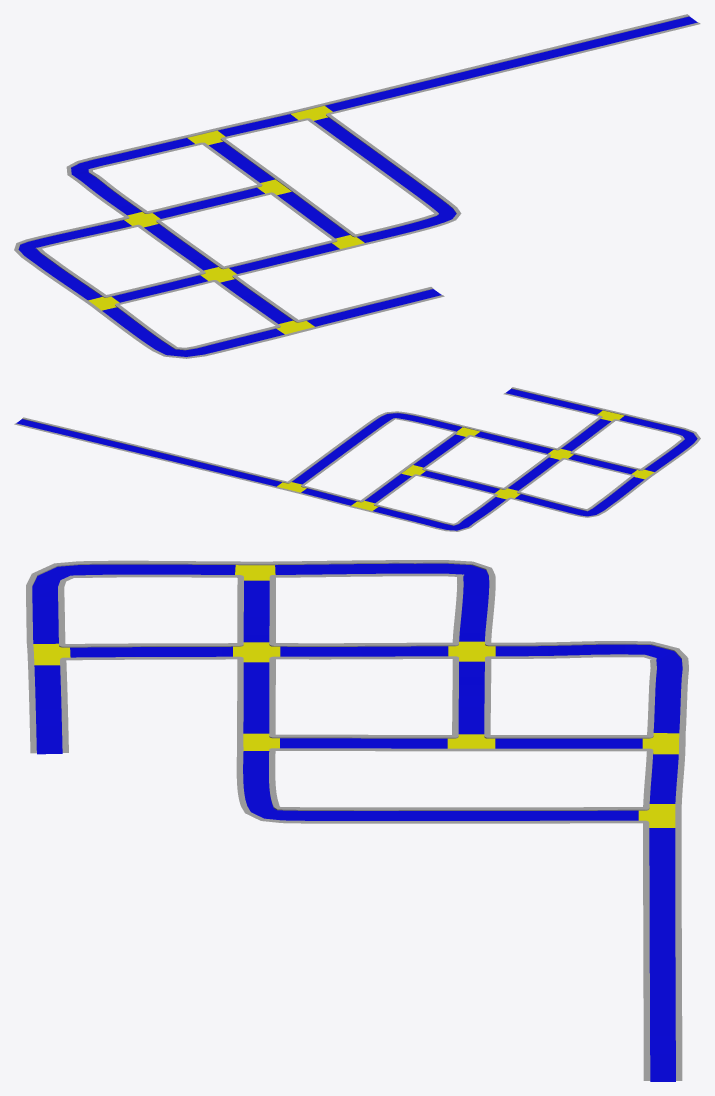
Rendered from Road_Denver.fbx.
The picture shows the model from 3 angles, top to bottom: view 1: azimuth 30°, elevation 25°; view 2: azimuth 150°, elevation 25°; view 3: azimuth 270°, elevation 25°; orthographic projection. The views are drawn at different scales.
Parts seen in each view (by area): view 1: Road_denver; view 2: Road_denver; view 3: Road_denver.
Boxes of the visible parts, x1=… form: Road_denver: x1=14, y1=14, x2=700, y2=358; Road_denver: x1=14, y1=387, x2=700, y2=531; Road_denver: x1=26, y1=560, x2=688, y2=1081.
Size of the model in its own units: 287 by 0.6762 by 155.
